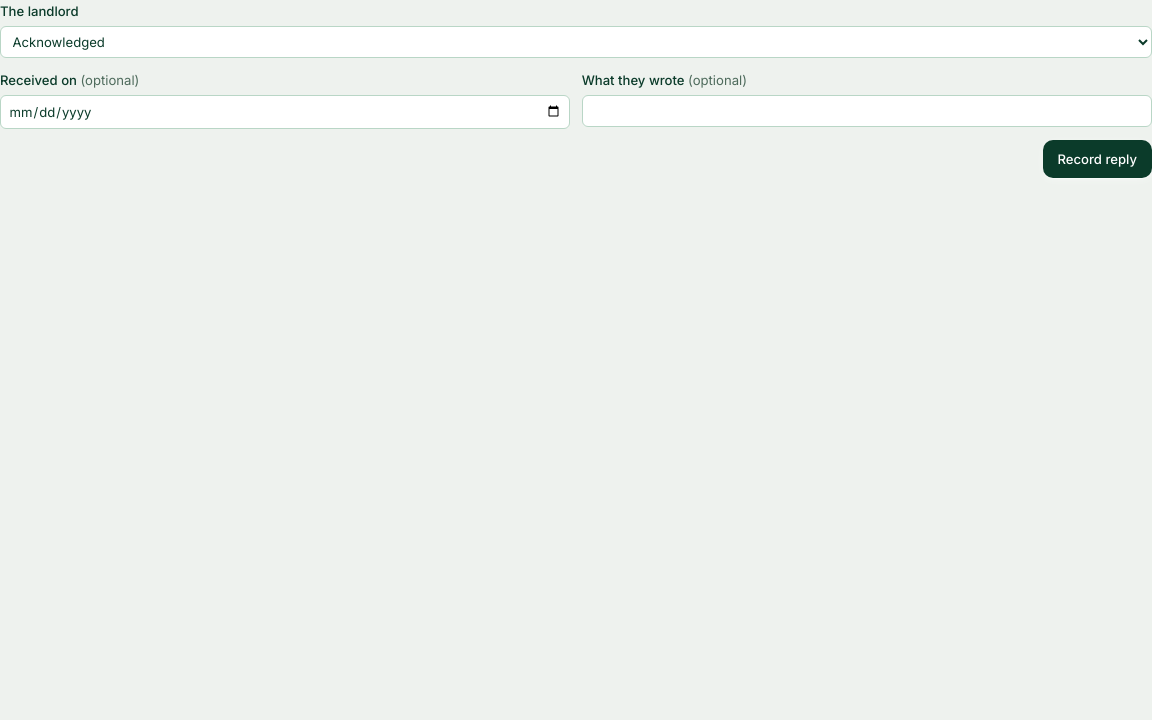
Scenario: dispute reply validation › does not open the confirm until the form is valid
Select "Credited in part" in the dropdown labelled "The landlord": (576, 42) x1=0 y1=26 x2=1151 y2=58
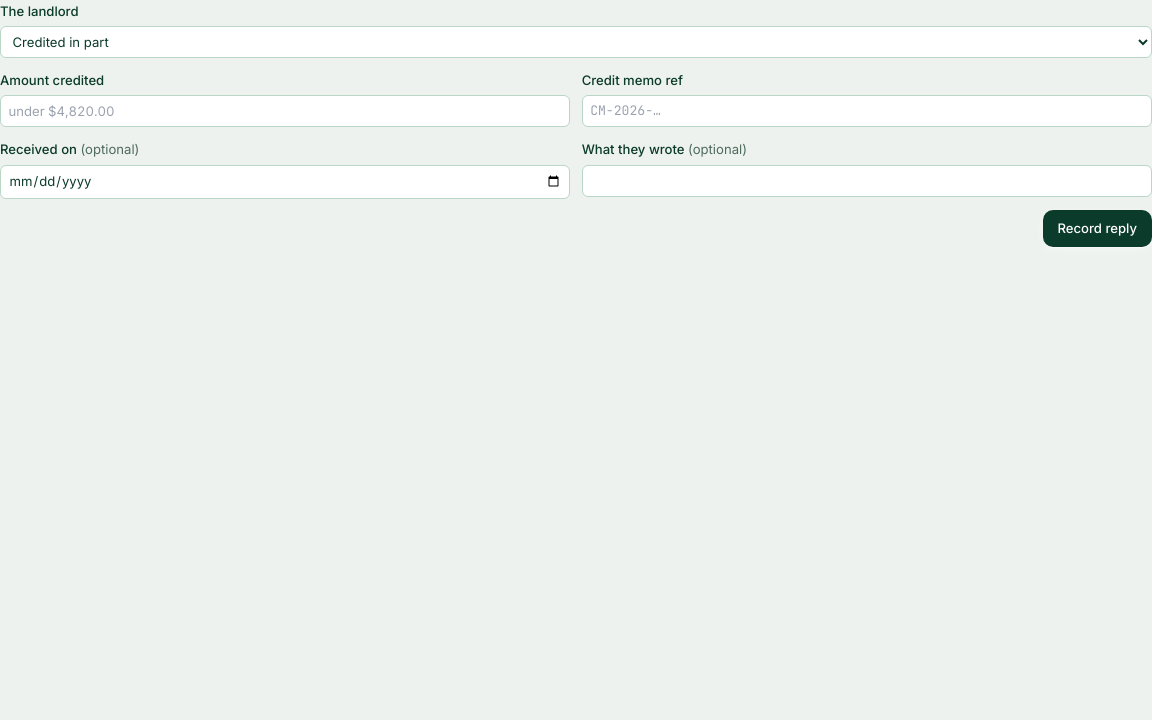
Click the button with test id "record-reply": (1097, 229) x1=1042 y1=210 x2=1151 y2=247
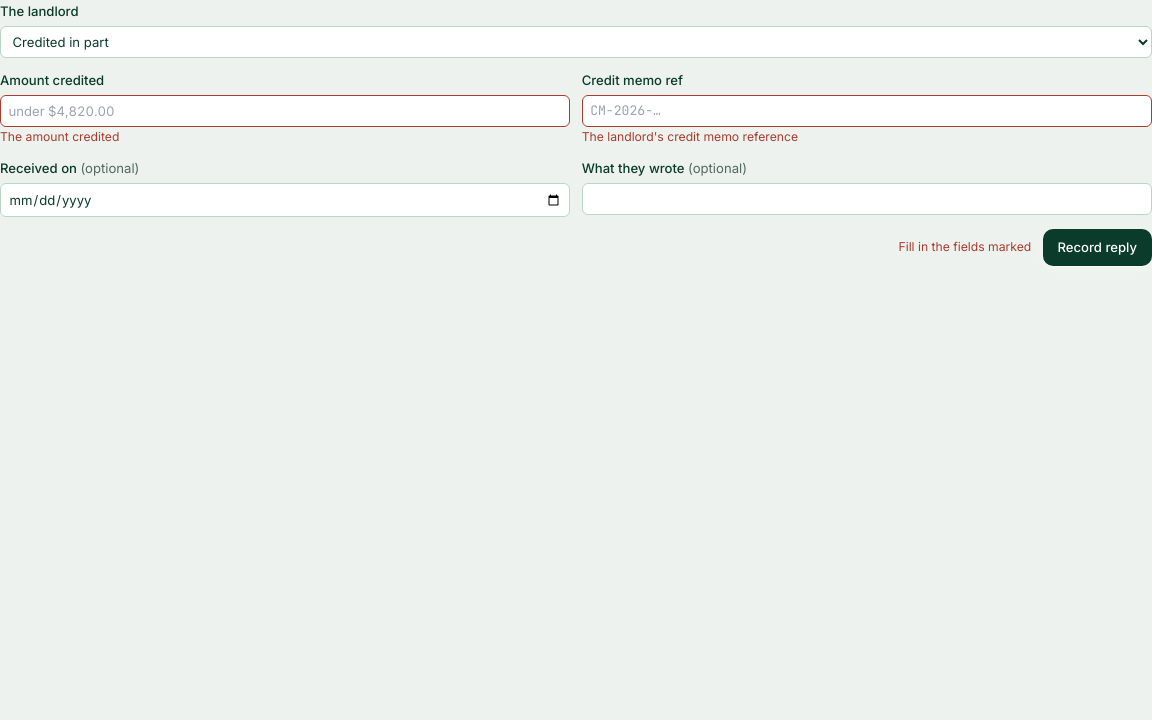
Expected: the text "The amount credited" is shown, x1=0 y1=129 x2=119 y2=144
In the field labelled "Amount credited": (285, 111) x1=0 y1=95 x2=570 y2=127, type "1500"
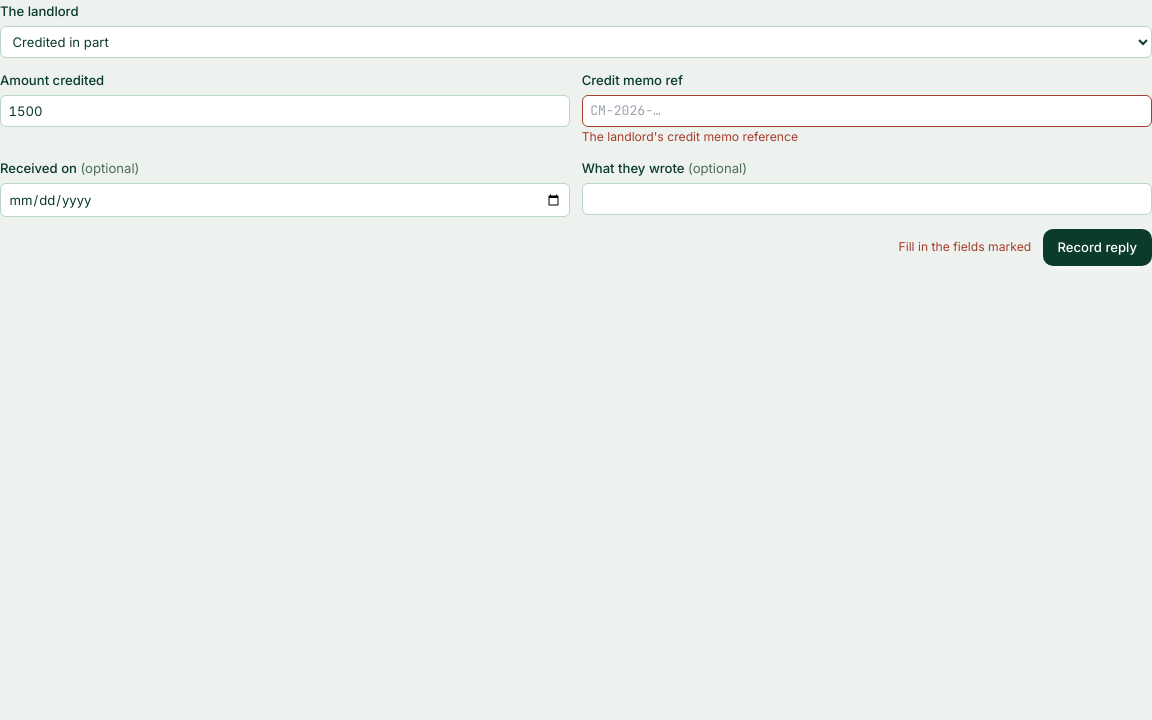
In the field labelled "Credit memo ref": (867, 111) x1=582 y1=95 x2=1151 y2=127, type "CM-2026-07"
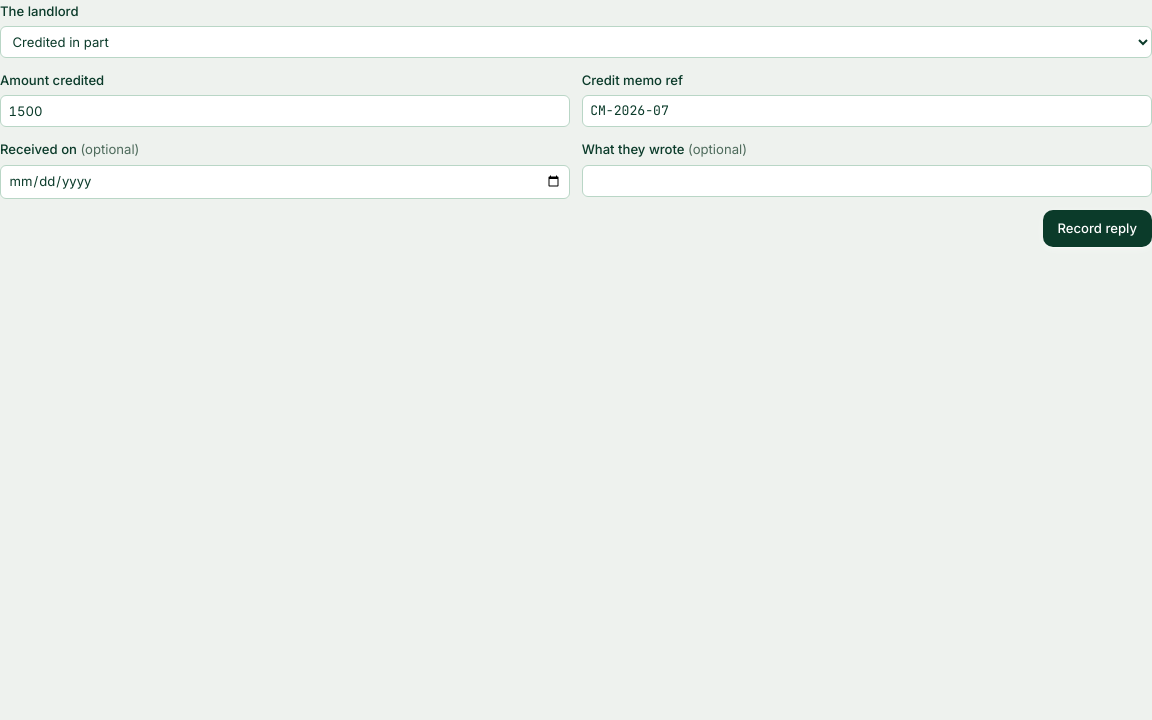
Click the button with test id "record-reply": (1097, 229) x1=1042 y1=210 x2=1151 y2=247
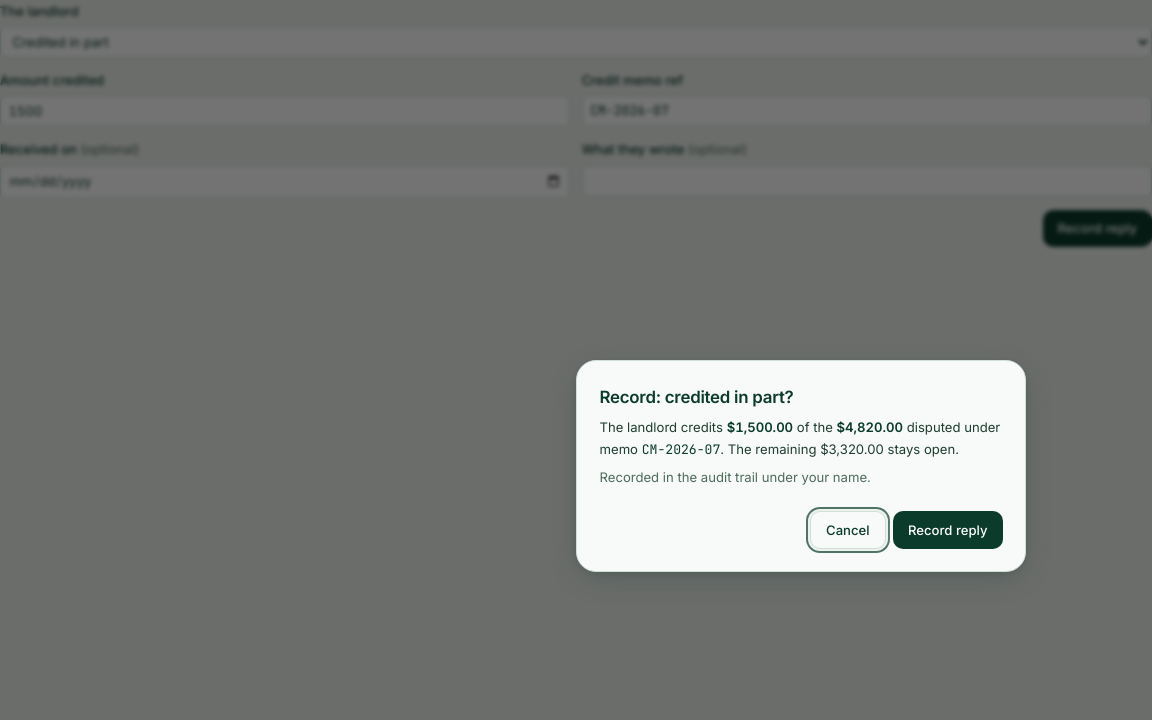
Expected: the dialog shows "credits $1,500.00 of the $4,820.00 disputed", x1=576 y1=360 x2=1026 y2=572
Expected: the dialog shows "The remaining $3,320.00 stays open.", x1=576 y1=360 x2=1026 y2=572
